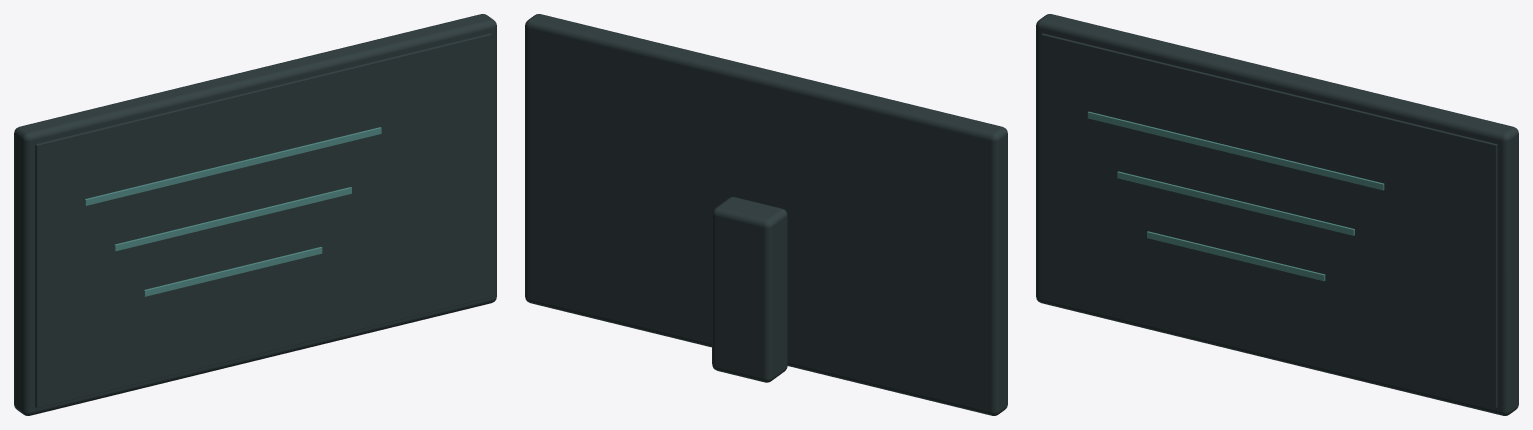
Rendered from wall-screen.glb.
3 views of the same model, side by side, from view 1: azimuth 30°, elevation 25°; view 2: azimuth 150°, elevation 25°; view 3: azimuth 330°, elevation 25° (orthographic).
Visible parts, largest first — view 1: wall-screen; view 2: wall-screen; view 3: wall-screen.
Boxes of the visible parts, x1,y1,x2,y2 form: wall-screen: (14, 14, 496, 415); wall-screen: (525, 14, 1007, 415); wall-screen: (1036, 14, 1518, 415).
Size of the model in its own units: 1.98 by 1.14 by 0.268.
